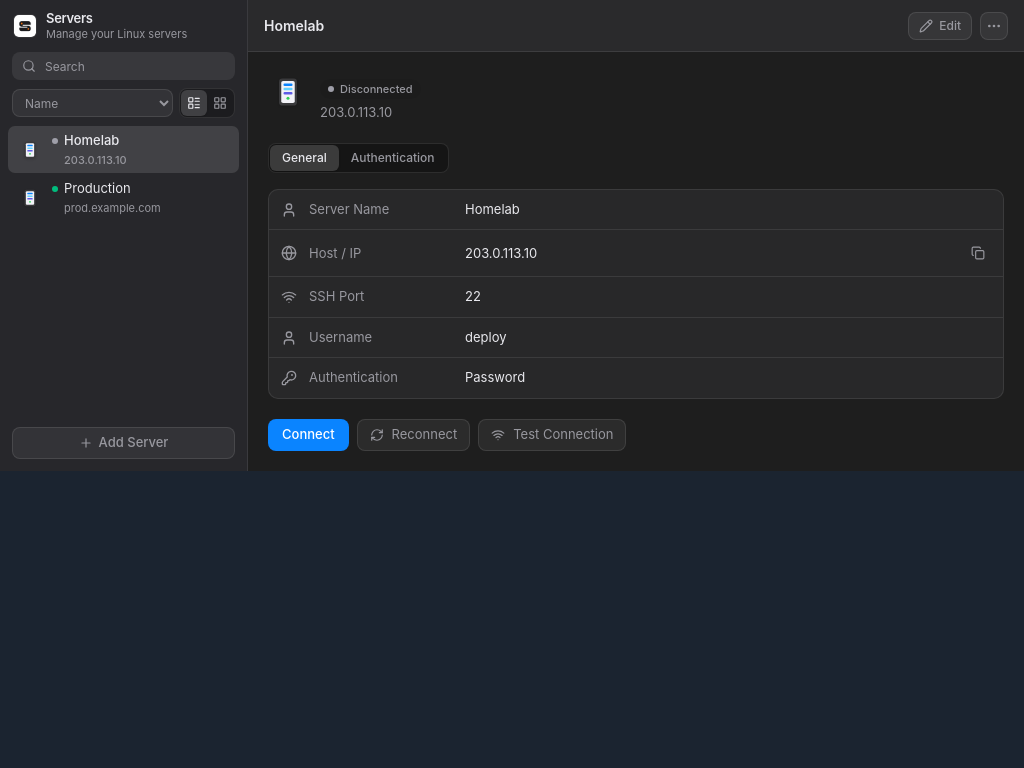
Test: ServerManager › opens add server as a temporary sidebar tab with the form beside it
Click the button "Add Server". click: (124, 443)
box: x1=12 y1=427 x2=235 y2=459
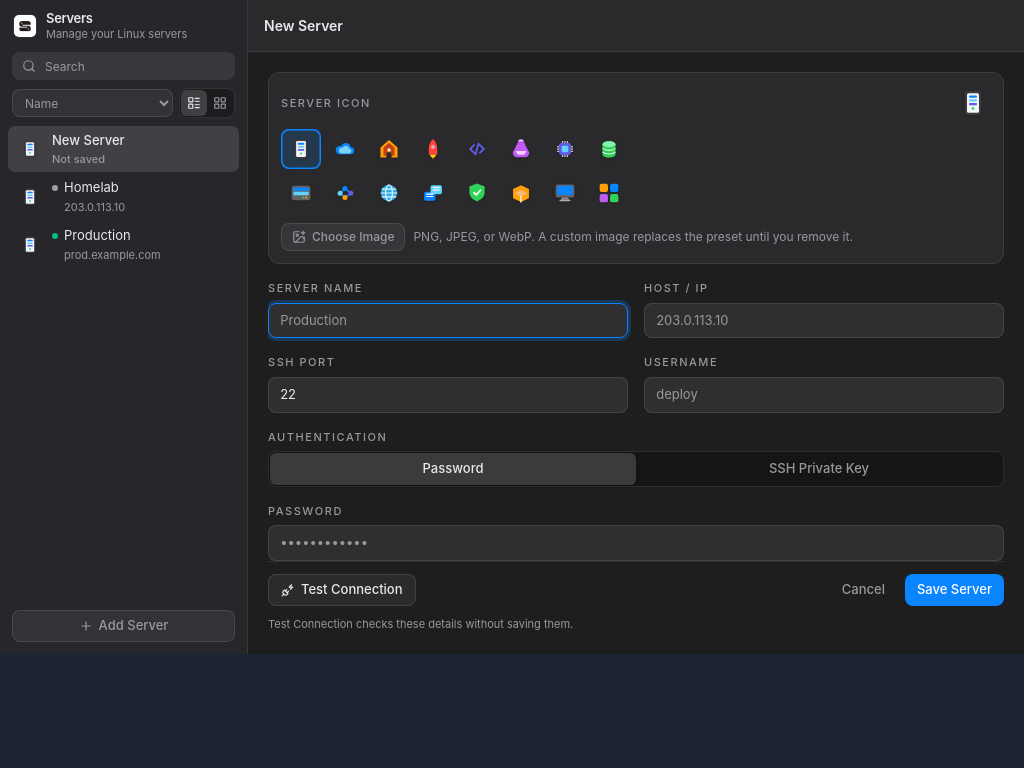
Now the heading "New Server" is shown, box x1=264 y1=17 x2=343 y2=34
Now the field labelled "Server Name" is shown
Type "Edge Lab" into the field labelled "Server Name". click: (448, 320)
box: x1=268 y1=302 x2=628 y2=338
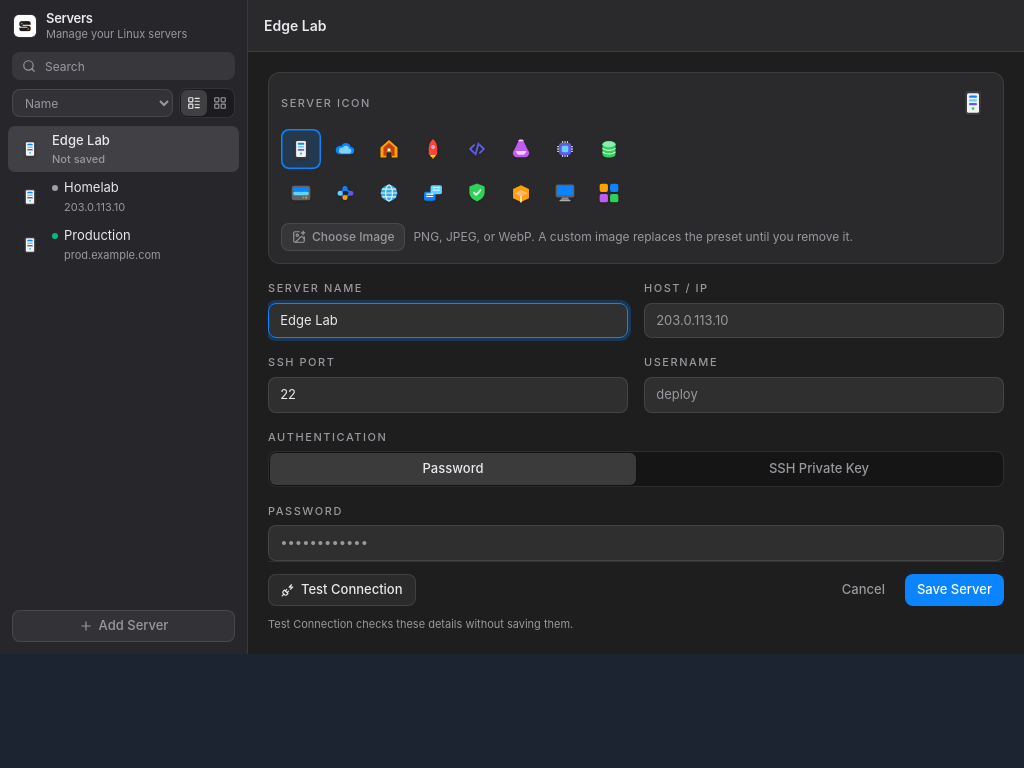
Now the heading "Edge Lab" is shown, box x1=264 y1=17 x2=326 y2=34
Click the button "Cancel". click: (863, 590)
box: x1=830 y1=574 x2=897 y2=606
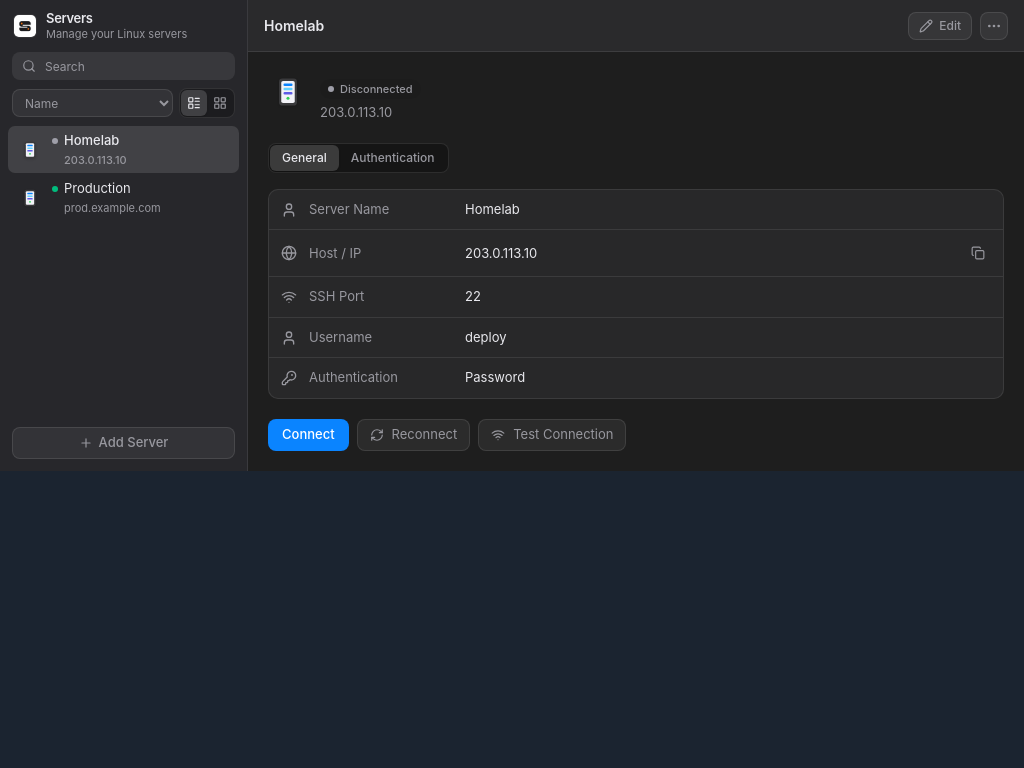
Now the option "Edge Lab" is gone
Now the heading "Homelab" is shown, box x1=264 y1=17 x2=324 y2=34
